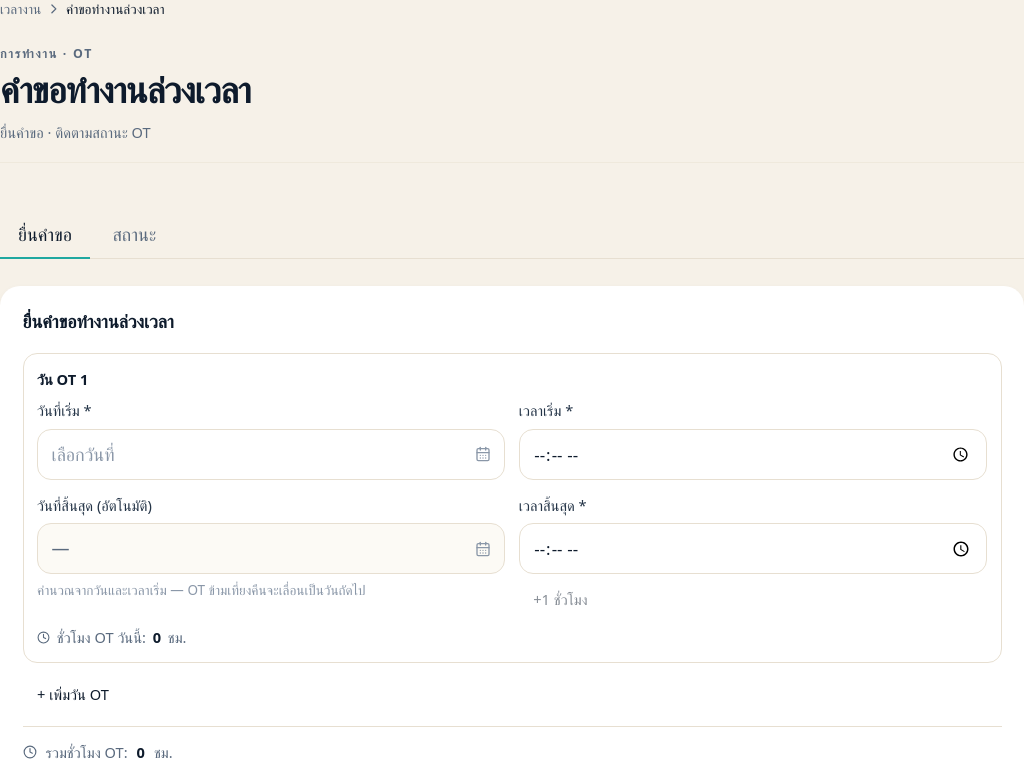
Test: /overtime — form-by-default (STA-149) › the Status tab hides the form and exposes the request list region
The image size is (1024, 768).
Click the tab "สถานะ". click: click(134, 236)
box: [94, 212, 174, 259]
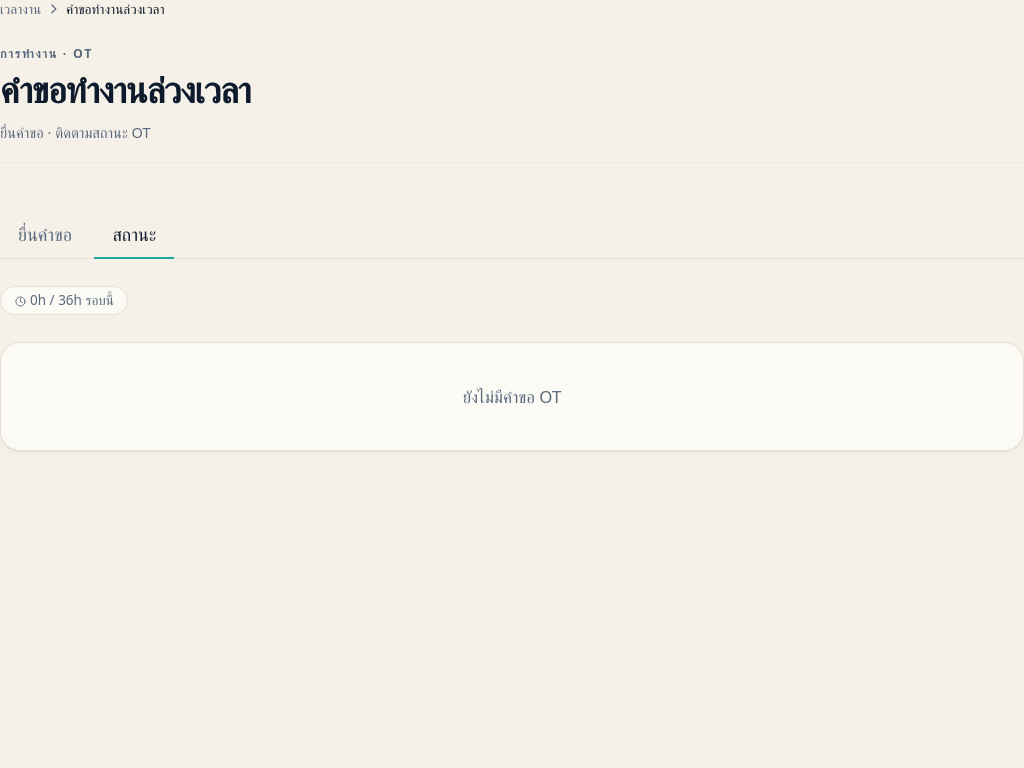
Now the heading "ยื่นคำขอทำงานล่วงเวลา" is gone
